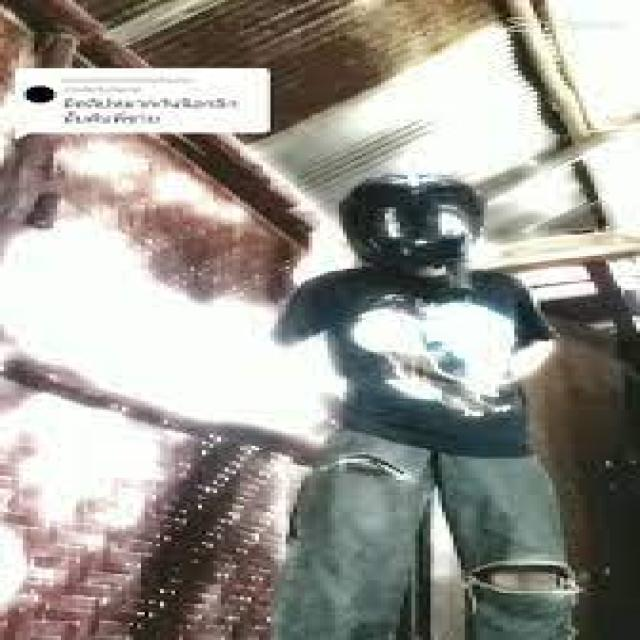helmet: (329, 160, 515, 288)
